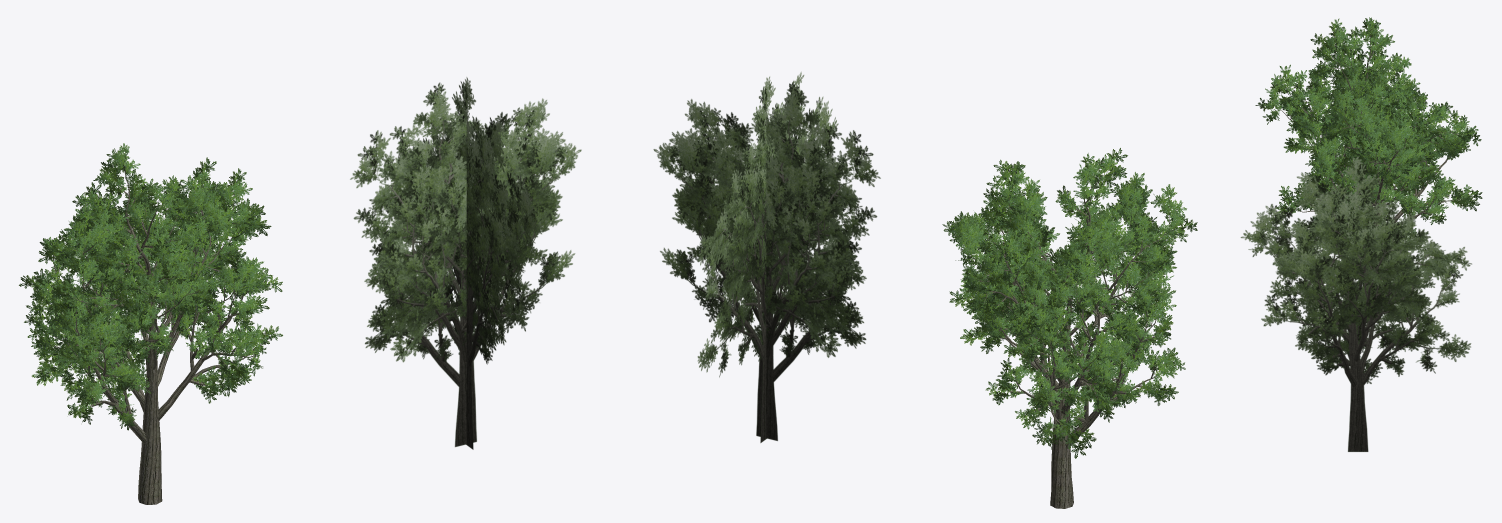
The model's file is tree7.glb.
3 views of the same model, side by side, from view 1: azimuth 30°, elevation 25°; view 2: azimuth 150°, elevation 25°; view 3: azimuth 270°, elevation 25° (orthographic). The views are drawn at different scales.
Visible parts, largest first — view 1: Tree7_High, Empty.023; view 2: Tree7_High, Empty.023; view 3: Empty.023, Tree7_High.
Boxes of the visible parts, x1,y1,x2,y2 form: Tree7_High: (19, 143, 282, 504); Empty.023: (350, 77, 581, 449); Tree7_High: (942, 148, 1197, 508); Empty.023: (653, 72, 880, 442); Empty.023: (1240, 156, 1471, 451); Tree7_High: (1255, 17, 1482, 321).
Bounding box in the file's own units: 75.59 × 49.16 × 37.31.
3 materials, 3 textured.
